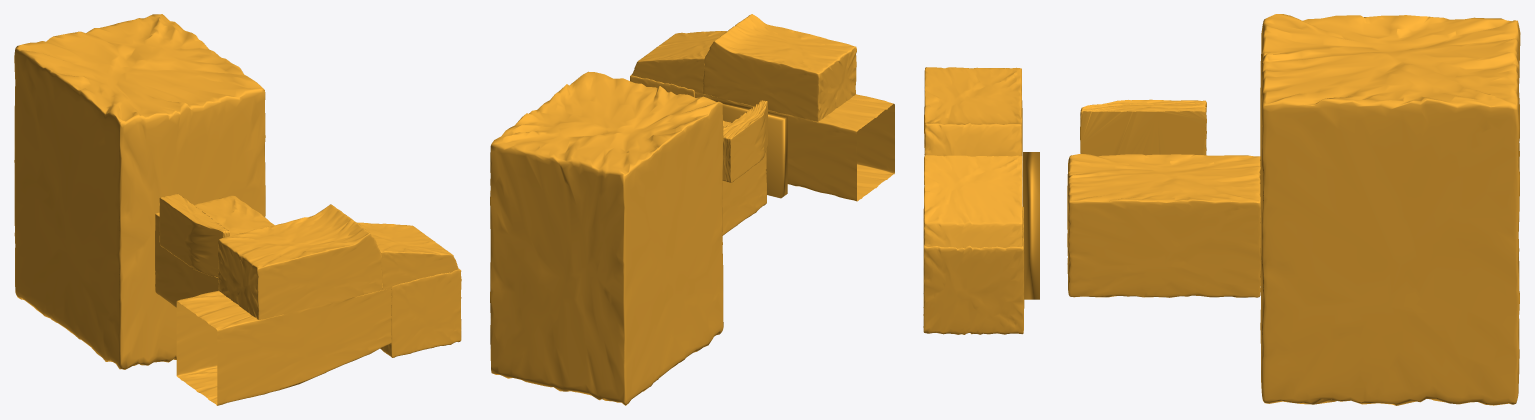
File: landsat.obj
3 views of the same model, side by side, from view 1: azimuth 30°, elevation 25°; view 2: azimuth 150°, elevation 25°; view 3: azimuth 270°, elevation 25° (orthographic). The views are drawn at different scales.
Parts seen in each view (by area): view 1: body2.002; view 2: body2.002; view 3: body2.002.
Boxes of the visible parts, x1,y1,x2,y2 form: body2.002: (14,14,461,405); body2.002: (490,14,894,405); body2.002: (923,14,1520,405).
Size of the model in its own units: 2.3 by 2.32 by 4.04.
